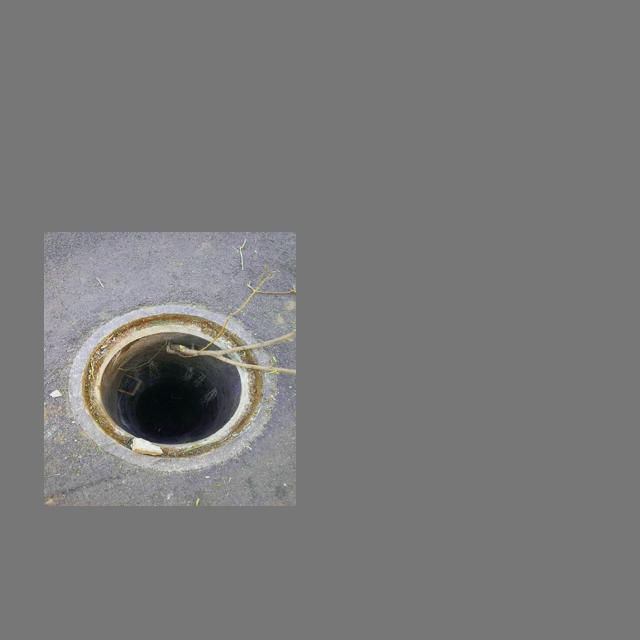lose: (65, 304, 280, 471)
